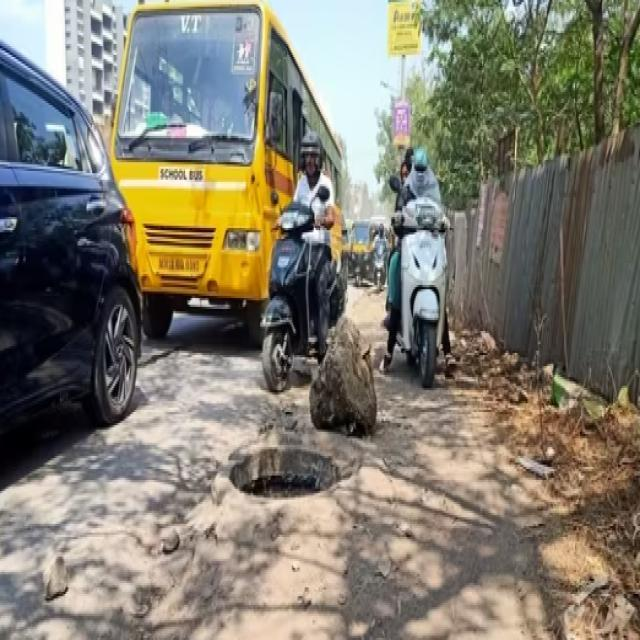Bus: (112, 0, 342, 341)
Car: (0, 44, 141, 431)
Motorcycle: (262, 202, 318, 392), (396, 197, 448, 388), (331, 261, 346, 323)
